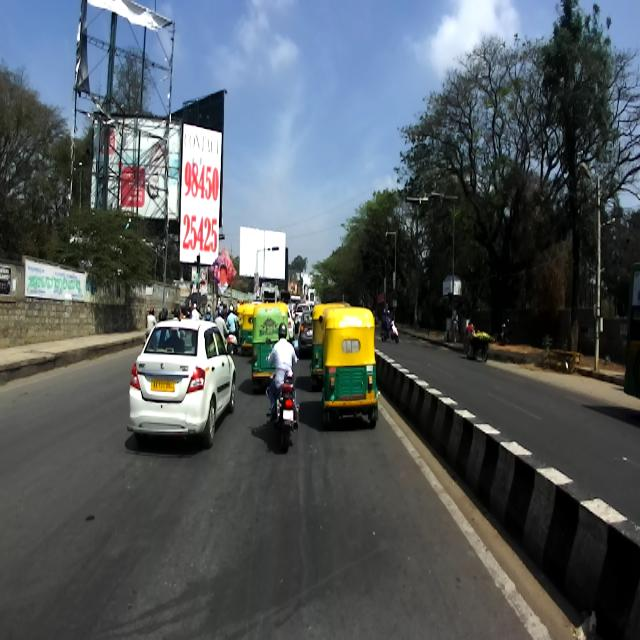auto ahead at: (320, 308, 381, 431)
car ahead at: (126, 314, 238, 444)
motorcycle ahead at: (263, 386, 304, 442)
